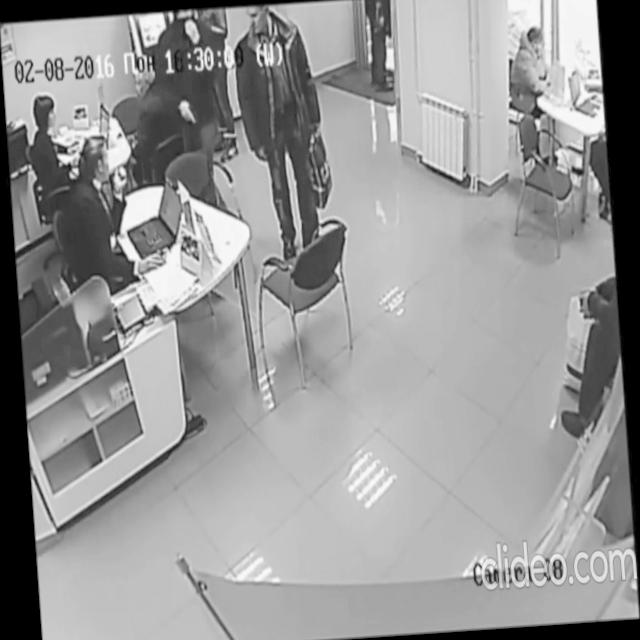gun: (178, 98, 206, 136)
person: (228, 1, 332, 266), (60, 130, 167, 294), (505, 21, 560, 168), (26, 91, 86, 211)
person with a gun: (152, 6, 231, 232)
